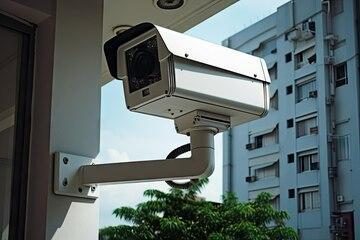------------------------------: (103, 20, 281, 143)
